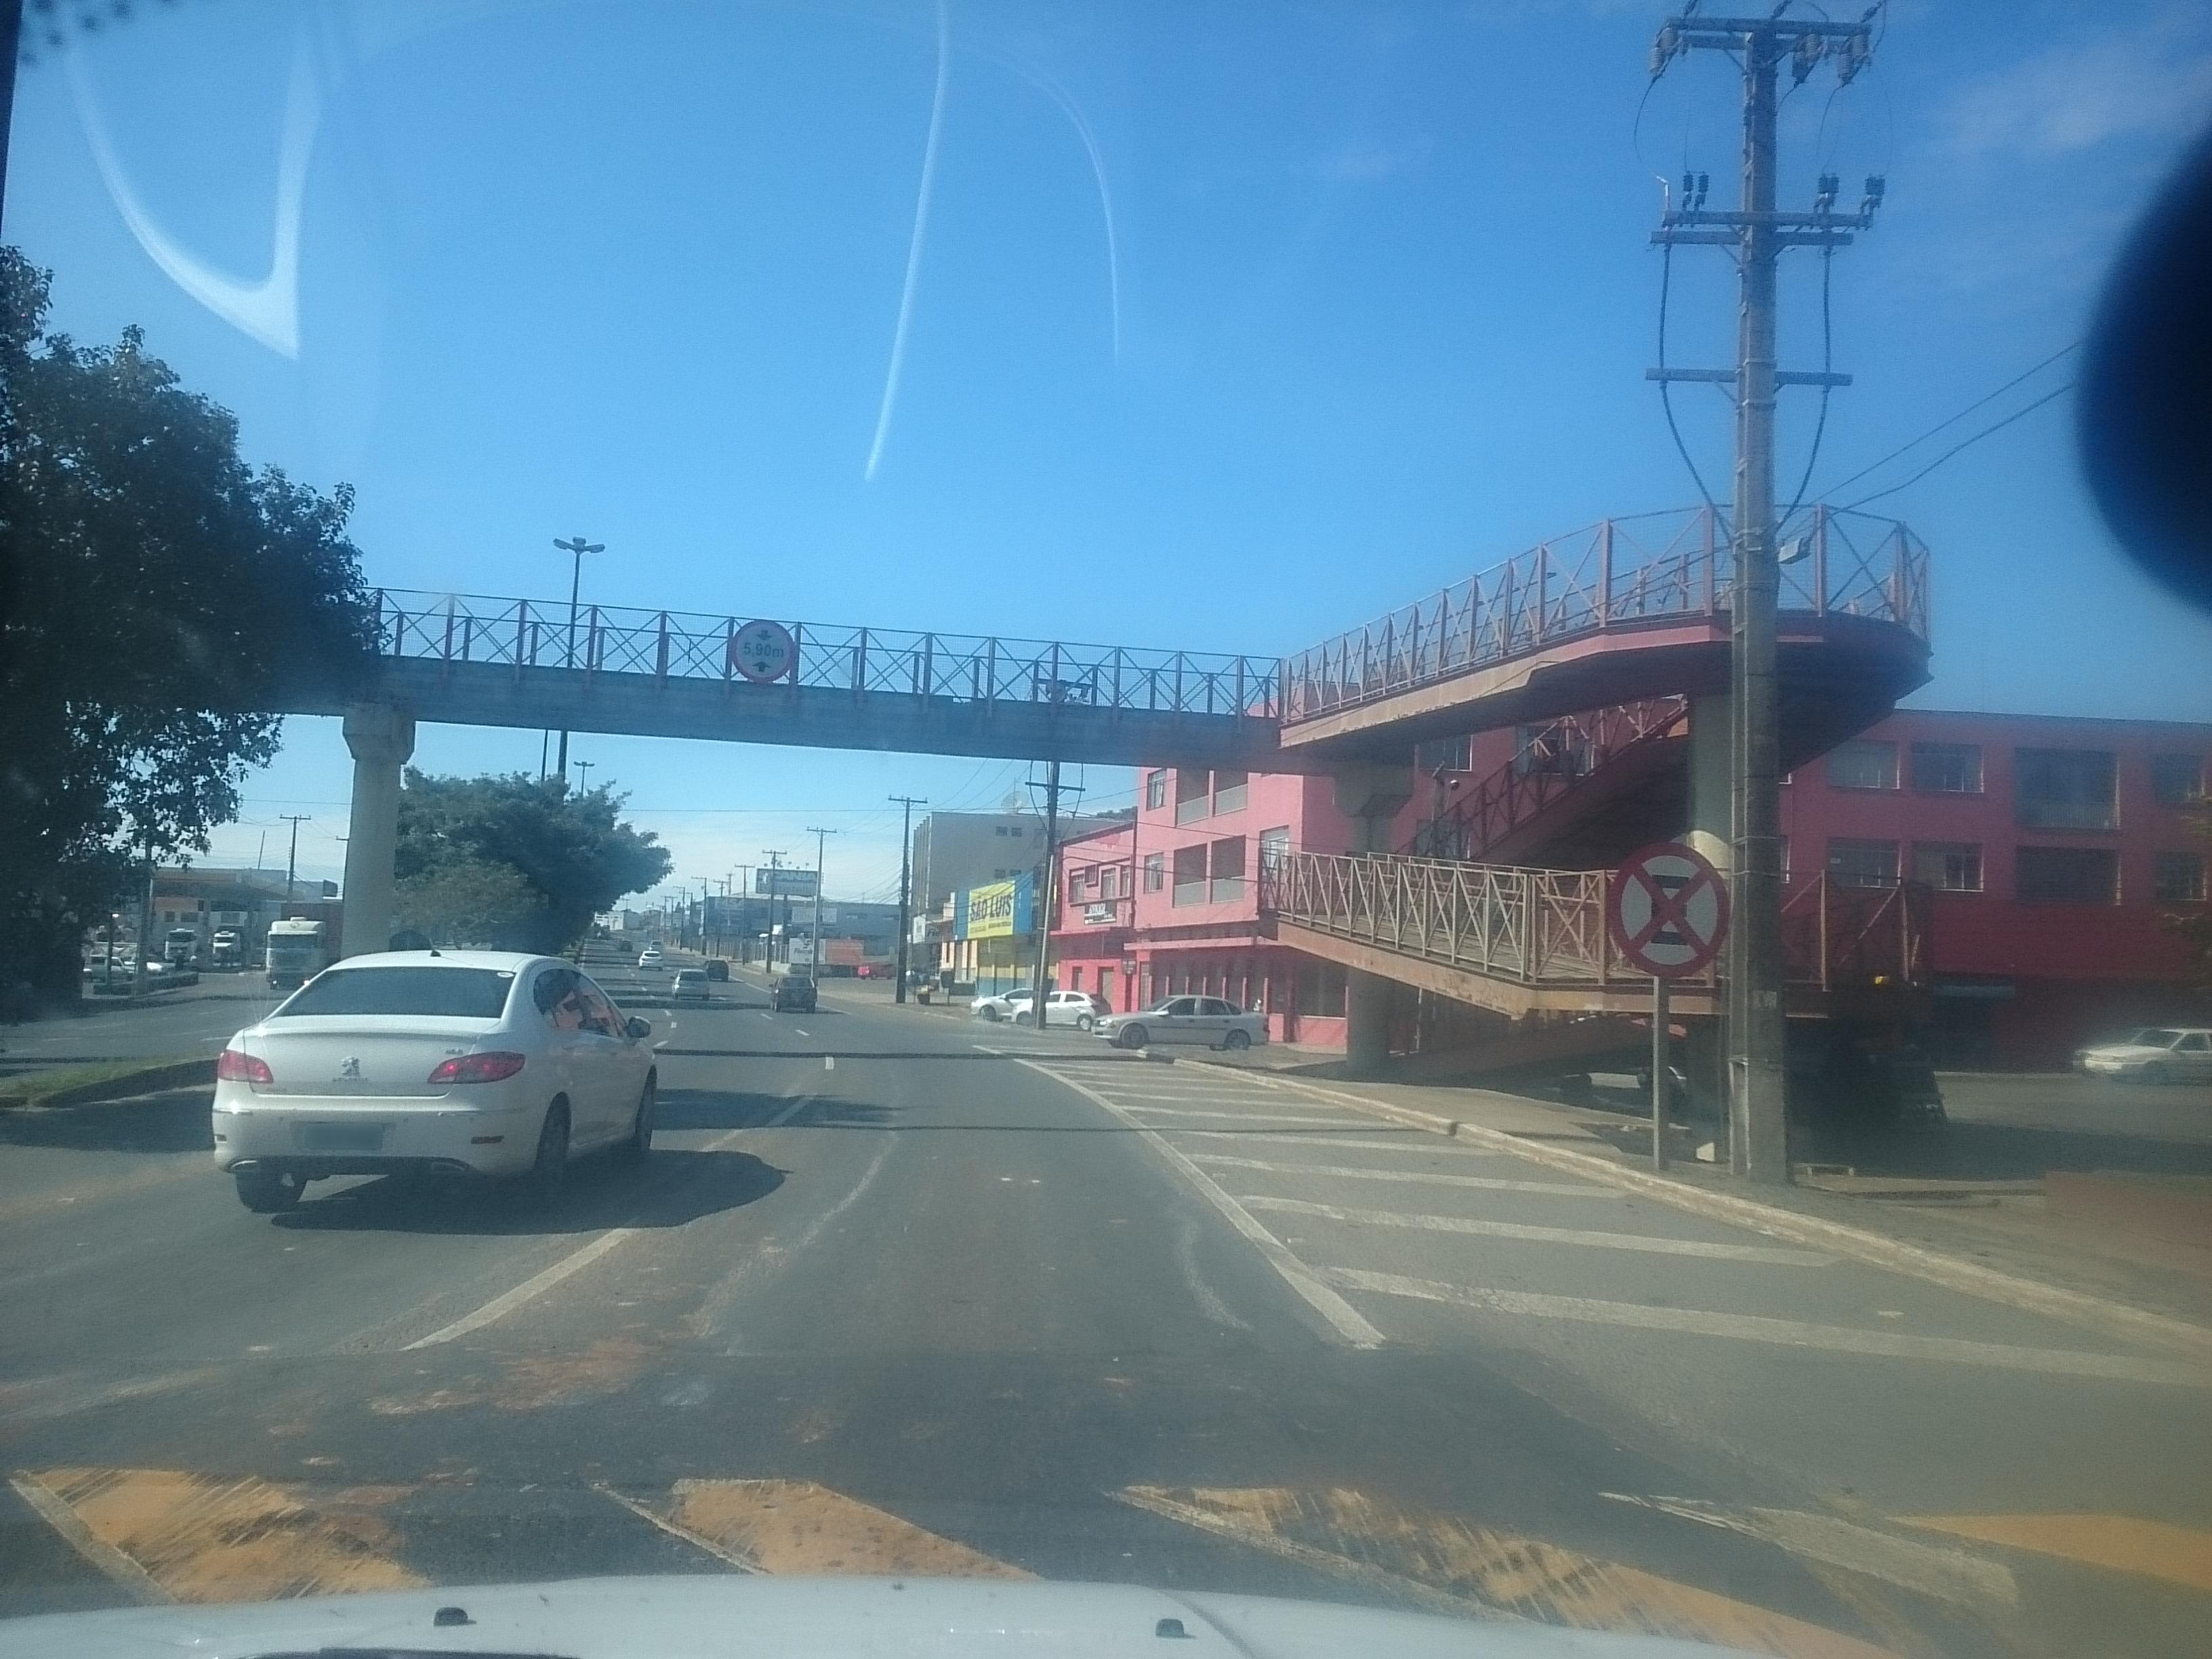vinyl banner: (937, 866, 1059, 934)
